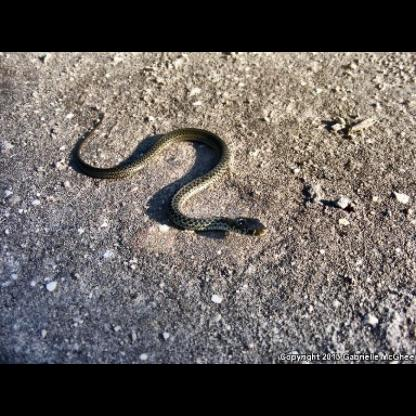Snake: (64, 109, 269, 239)
